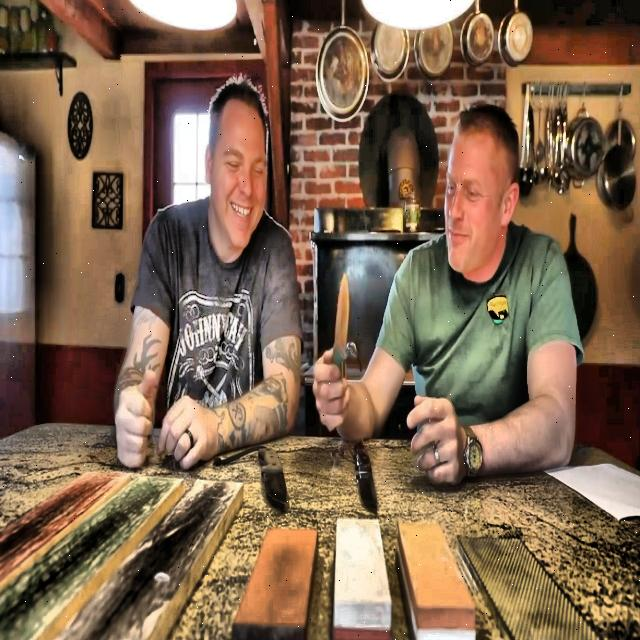knife: (330, 277, 349, 386), (355, 441, 379, 514), (259, 447, 287, 505)
